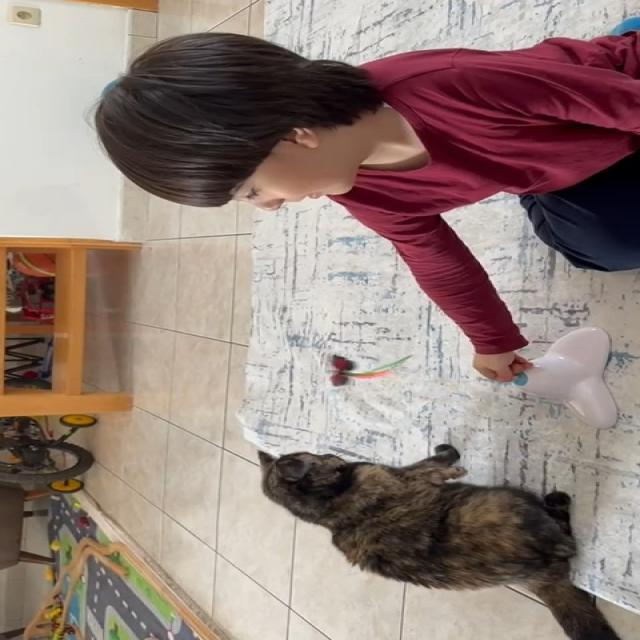authorized: (256, 443, 623, 639)
